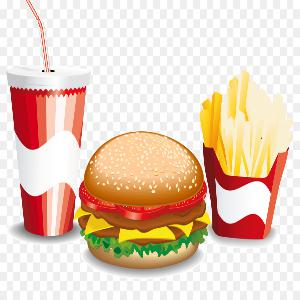cheeseburger_475cal: (82, 121, 214, 274)
fries_350cal: (199, 59, 298, 183)
